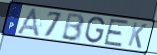7: (45, 10, 64, 38)
A: (15, 7, 41, 38)
B: (60, 13, 86, 43)
E: (103, 18, 130, 48)
G: (84, 16, 106, 45)
K: (127, 21, 149, 50)
